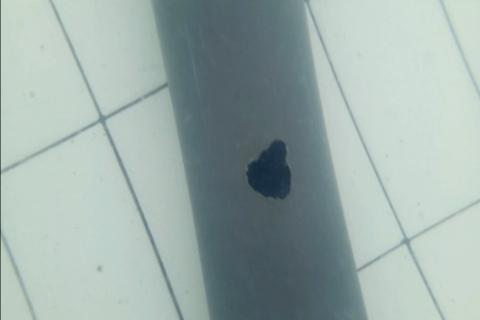kebocoran: (243, 136, 294, 203)
